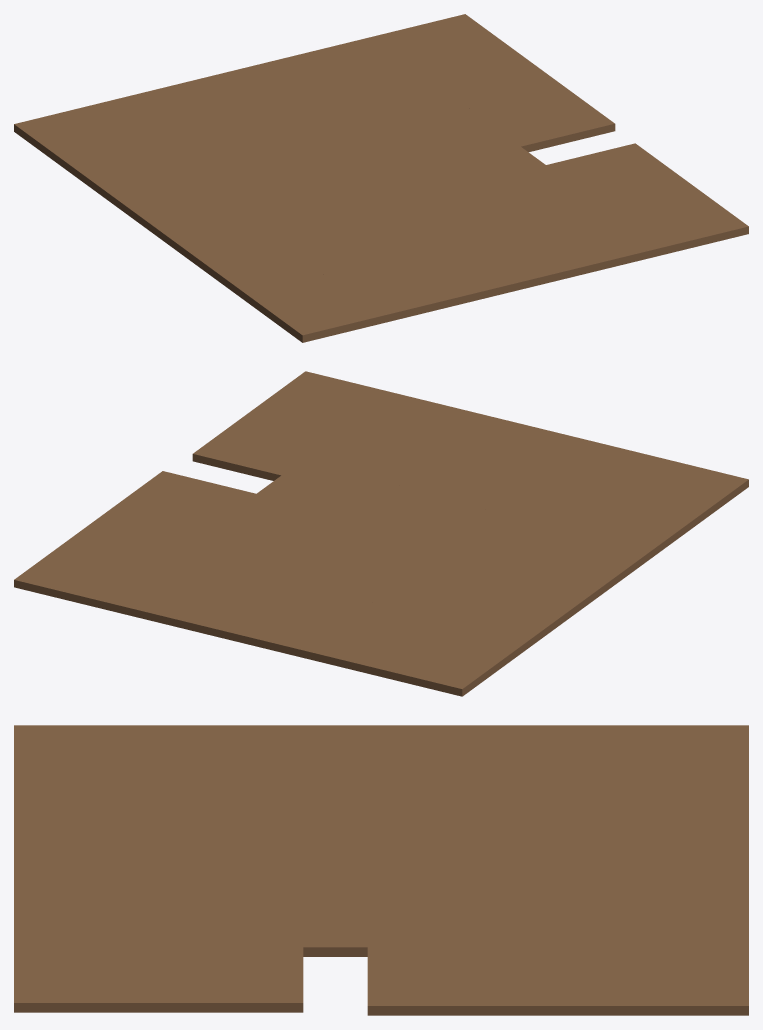
Rendered from Killhouse Roof.fbx.
The picture shows the model from 3 angles, top to bottom: view 1: azimuth 30°, elevation 25°; view 2: azimuth 150°, elevation 25°; view 3: azimuth 270°, elevation 25°; orthographic projection. The views are drawn at different scales.
Parts seen in each view (by area): view 1: Top Floor Studs.035, Top Floor Studs.043, Top Floor Studs.044, Top Floor Studs.047, Top Floor Studs.046, Top Floor Studs.039, Top Floor Studs.041, Top Floor Studs.052, Top Floor Studs.053, Top Floor Studs.034, Top Floor Studs.031, Top Floor Studs.042 (+13 smaller); view 2: Top Floor Studs.041, Top Floor Studs.042, Top Floor Studs.046, Top Floor Studs.044, Top Floor Studs.043, Top Floor Studs.047, Top Floor Studs.039, Top Floor Studs.038, Top Floor Studs.035, Top Floor Studs.050, Top Floor Studs.049, Top Floor Studs.034 (+13 smaller); view 3: Top Floor Studs.039, Top Floor Studs.035, Top Floor Studs.042, Top Floor Studs.043, Top Floor Studs.044, Top Floor Studs.046, Top Floor Studs.047, Top Floor Studs.038, Top Floor Studs.041, Top Floor Studs.055, Top Floor Studs.053, Top Floor Studs.034 (+13 smaller).
Boxes of the visible parts, x1,y1,x2,y2 form: Top Floor Studs.035: [589, 182, 748, 258]; Top Floor Studs.043: [283, 142, 446, 214]; Top Floor Studs.044: [183, 167, 346, 238]; Top Floor Studs.047: [118, 119, 282, 190]; Top Floor Studs.046: [218, 95, 381, 166]; Top Floor Studs.039: [382, 118, 546, 189]; Top Floor Studs.041: [272, 37, 431, 105]; Top Floor Studs.052: [321, 250, 470, 323]; Top Floor Studs.053: [411, 228, 559, 301]; Top Floor Studs.034: [500, 207, 649, 279]; Top Floor Studs.031: [242, 272, 381, 342]; Top Floor Studs.042: [371, 14, 525, 81]; Top Floor Studs.041: [107, 558, 266, 634]; Top Floor Studs.042: [14, 535, 167, 609]; Top Floor Studs.046: [253, 546, 415, 617]; Top Floor Studs.044: [416, 523, 578, 594]; Top Floor Studs.043: [317, 499, 479, 570]; Top Floor Studs.047: [352, 570, 514, 641]; Top Floor Studs.039: [218, 475, 380, 545]; Top Floor Studs.038: [192, 415, 344, 480]; Top Floor Studs.035: [246, 371, 403, 438]; Top Floor Studs.050: [305, 617, 450, 682]; Top Floor Studs.049: [206, 593, 351, 658]; Top Floor Studs.034: [345, 395, 492, 460]; Top Floor Studs.039: [301, 885, 466, 956]; Top Floor Studs.035: [14, 941, 166, 1012]; Top Floor Studs.042: [593, 947, 748, 1015]; Top Floor Studs.043: [301, 823, 466, 885]; Top Floor Studs.044: [301, 761, 466, 823]; Top Floor Studs.046: [466, 823, 631, 885]; Top Floor Studs.047: [466, 761, 631, 823]; Top Floor Studs.038: [167, 941, 303, 1012]; Top Floor Studs.041: [593, 885, 748, 947]; Top Floor Studs.055: [466, 947, 593, 1015]; Top Floor Studs.053: [14, 829, 166, 885]; Top Floor Studs.034: [14, 885, 166, 940].
Bounding box in the file's own units: 1054 × 16.92 × 1167.
